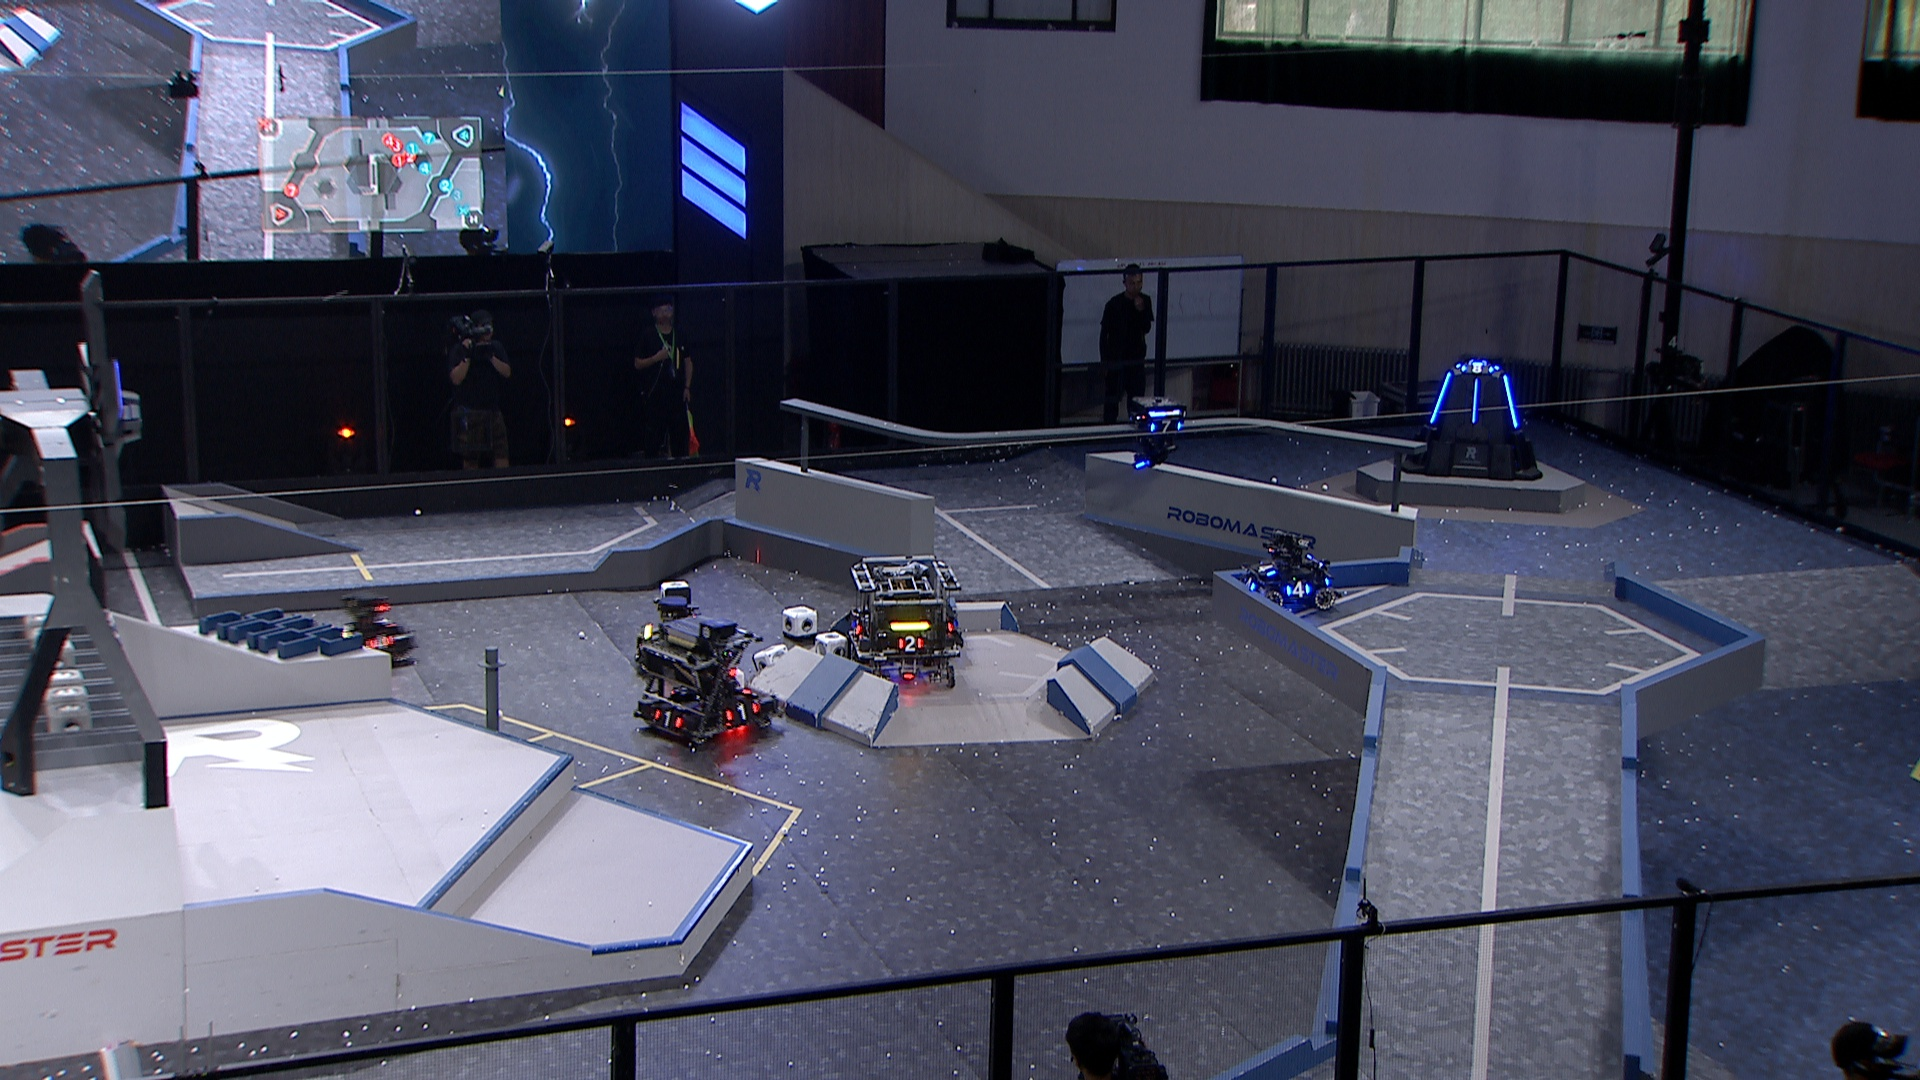armor: (1427, 371, 1456, 427), (1501, 372, 1522, 431), (723, 702, 764, 723), (651, 708, 684, 731), (1147, 418, 1185, 436), (895, 633, 926, 655), (363, 633, 396, 651), (1280, 580, 1313, 599), (1253, 560, 1280, 580), (1470, 378, 1481, 427), (1460, 361, 1495, 375), (1240, 574, 1258, 593), (851, 618, 862, 637)
base: (1396, 357, 1543, 481)
car: (632, 618, 779, 750), (847, 555, 967, 688), (1237, 527, 1340, 613), (320, 591, 415, 669), (636, 591, 717, 673)
watcher: (1126, 392, 1185, 471)
